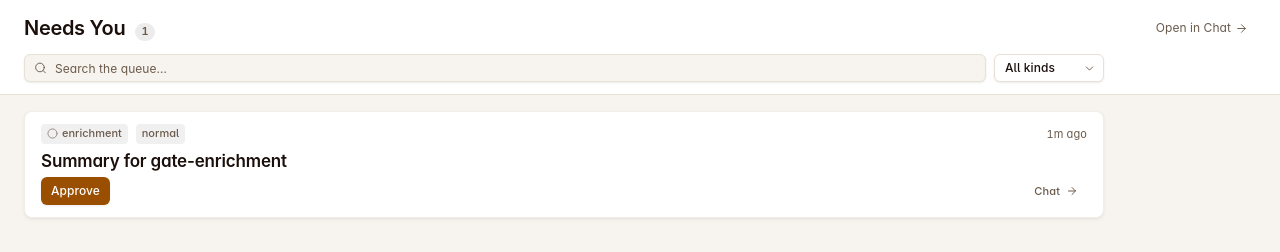
Test: TriageRow – error feedback shown when mutation fails › shows error when decision response is non-2xx
The image size is (1280, 252).
Click the button with test id "triage-decision-Approve" at (75, 191), box left=41, top=177, right=110, bottom=205
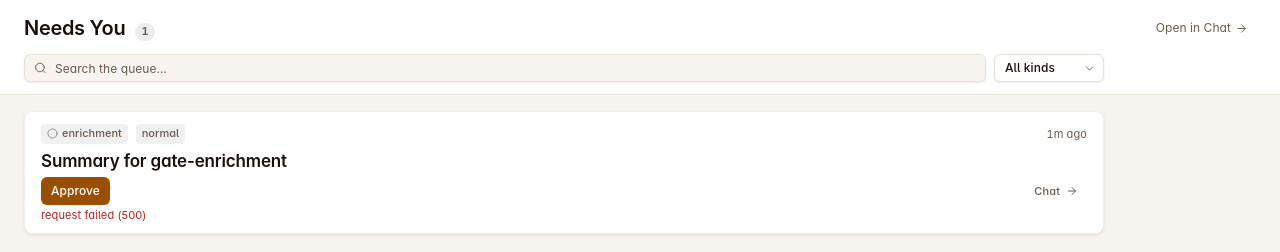
expect the text with test id "triage-error" shows "500": met, box left=41, top=208, right=146, bottom=222
